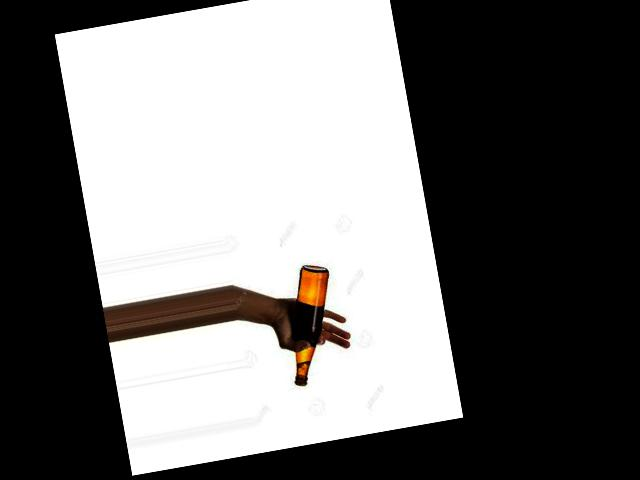beer: (276, 262, 345, 384)
